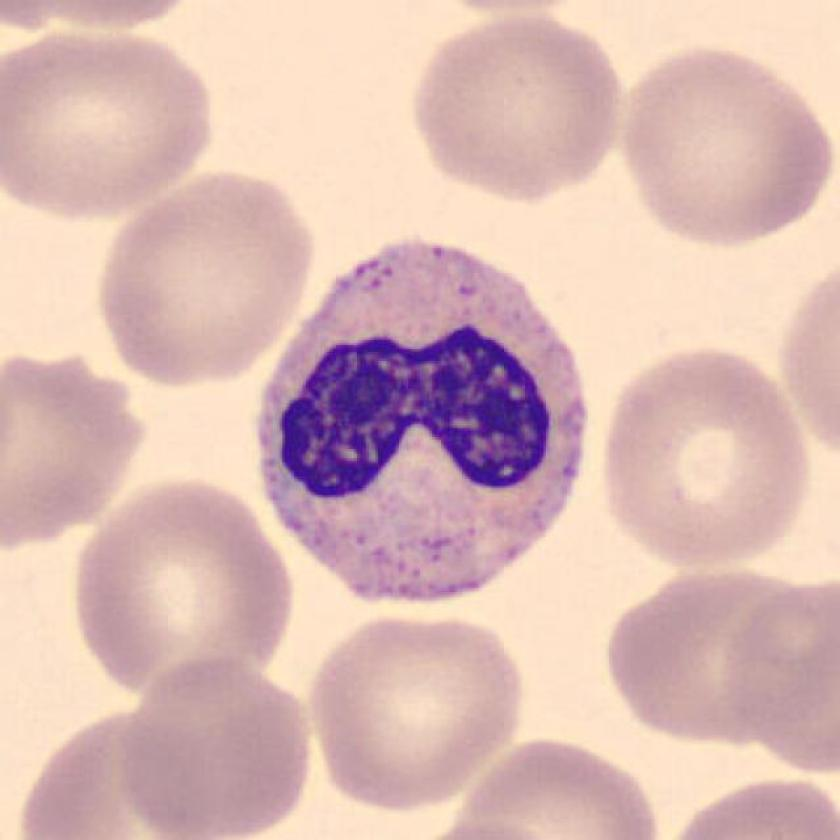neutrophil: (259, 241, 583, 601)
